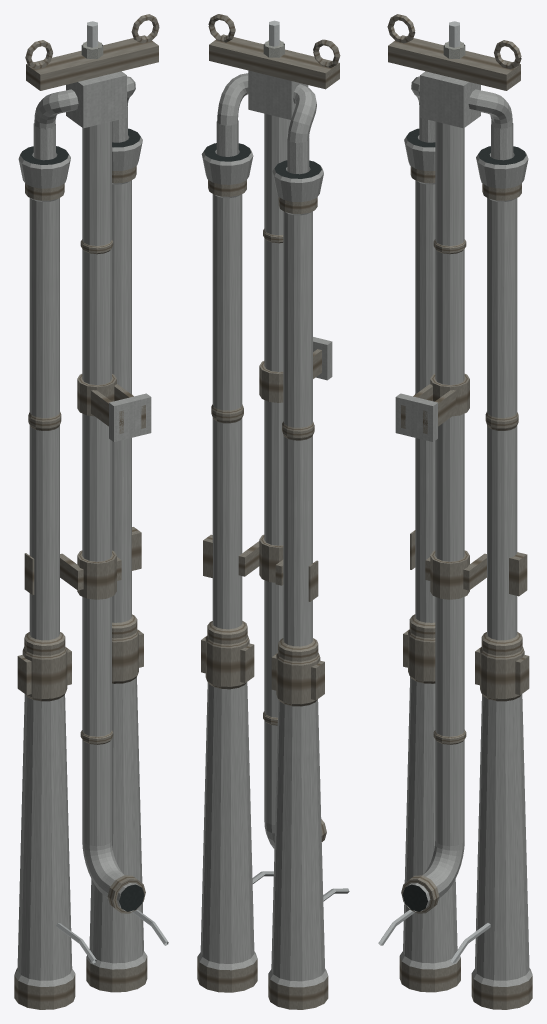
The model's file is inventory.obj.
3 renders of one model, left to right at view 1: azimuth 30°, elevation 25°; view 2: azimuth 150°, elevation 25°; view 3: azimuth 330°, elevation 25°, orthographic.
Bounding box in the file's own units: 0.1291 × 0.9 × 0.112.
